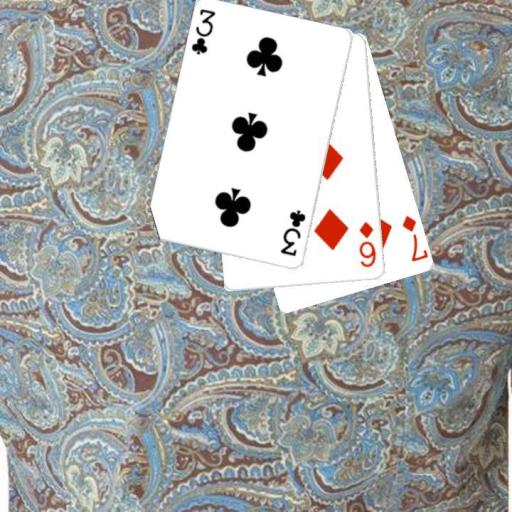3C: (277, 207, 308, 258), (188, 6, 217, 57)
6D: (357, 219, 379, 270)
7D: (399, 212, 428, 264)
